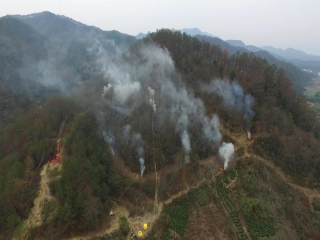smoke: (86, 39, 254, 177)
